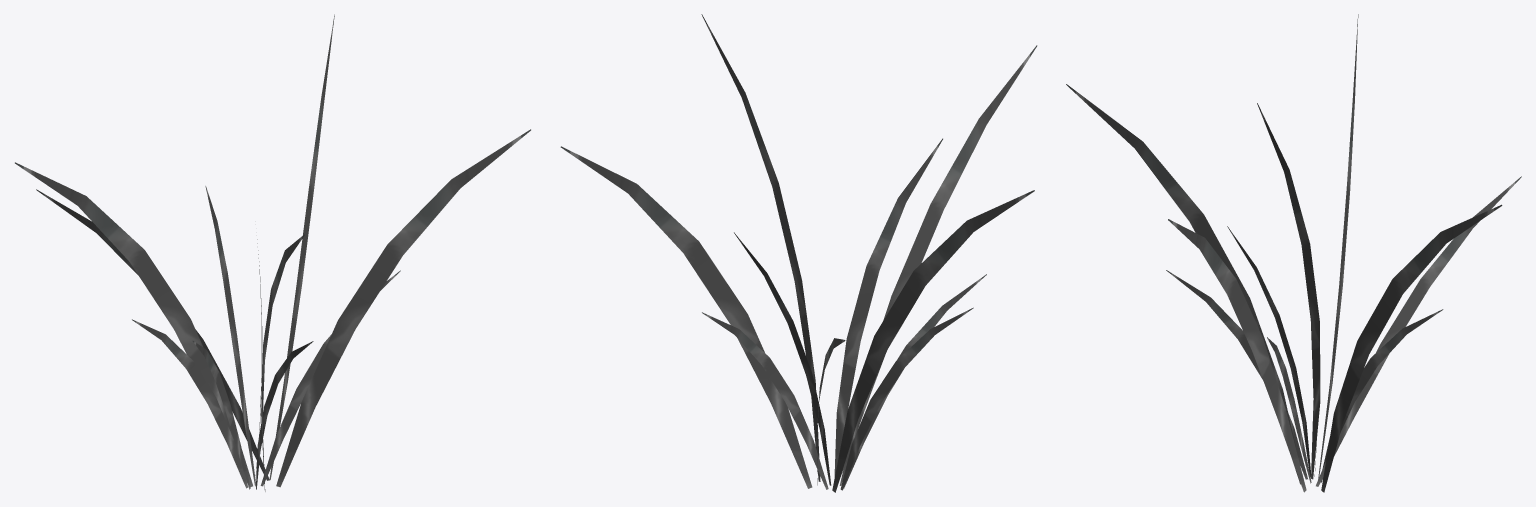
Rendered from LakePlantNoFlower.fbx.
3 views of the same model, side by side, from view 1: azimuth 30°, elevation 25°; view 2: azimuth 150°, elevation 25°; view 3: azimuth 270°, elevation 25° (orthographic). The views are drawn at different scales.
Visible parts, largest first — view 1: NurbsPath.001, NurbsPath.012; view 2: NurbsPath.001, NurbsPath.012; view 3: NurbsPath.001, NurbsPath.012.
Part boxes in pixels (<box>): NurbsPath.001: <box>15,14,530,491</box>; NurbsPath.012: <box>132,239,400,489</box>; NurbsPath.001: <box>560,14,1037,492</box>; NurbsPath.012: <box>702,232,986,490</box>; NurbsPath.001: <box>1066,14,1521,492</box>; NurbsPath.012: <box>1166,226,1443,483</box>.
Size of the model in its own units: 1663 by 1370 by 1560.
